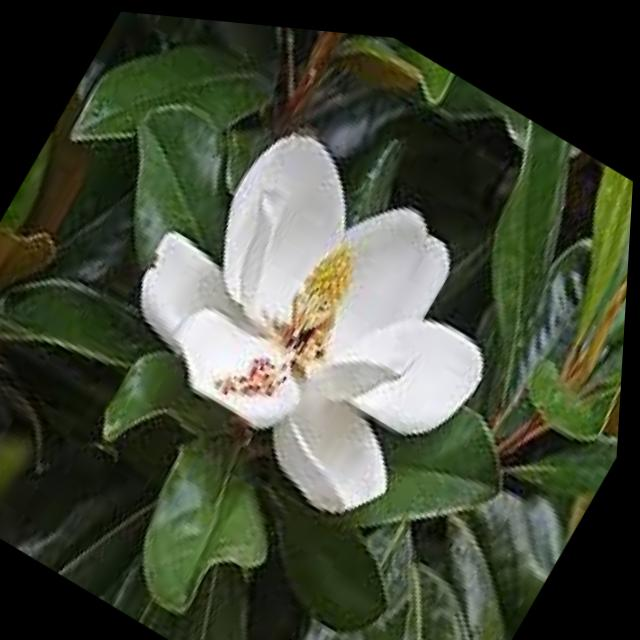Flower: (86, 81, 554, 551)
